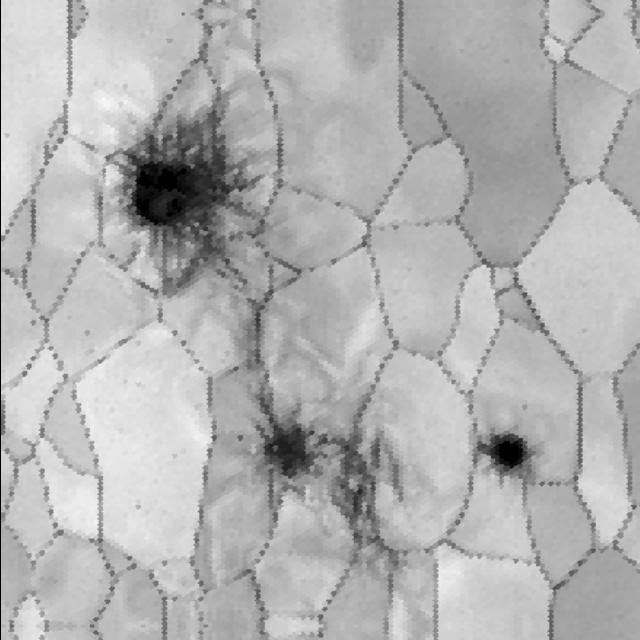good_void: (92, 80, 285, 324), (249, 382, 409, 573), (467, 432, 545, 501), (81, 326, 93, 341), (28, 316, 38, 332), (518, 402, 529, 414), (132, 500, 143, 511), (234, 432, 245, 442)
